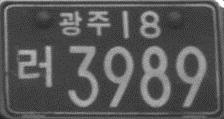1: (120, 8, 130, 41)
3: (66, 43, 101, 106)
8: (138, 43, 171, 108), (138, 9, 162, 40)
9: (175, 43, 208, 110), (102, 44, 135, 109)
광주_O: (58, 8, 111, 37)
러: (17, 43, 53, 89)
